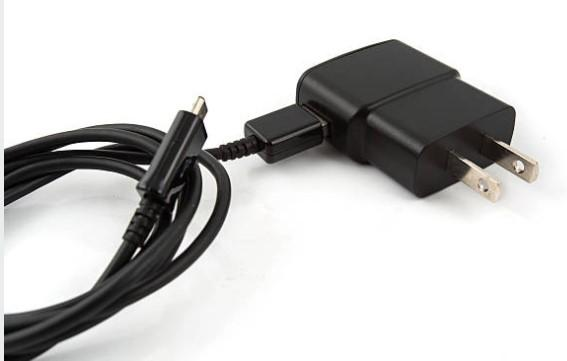cable: (5, 39, 540, 360)
